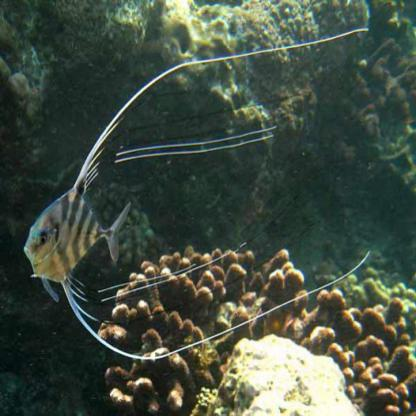jack: (20, 28, 376, 364)
